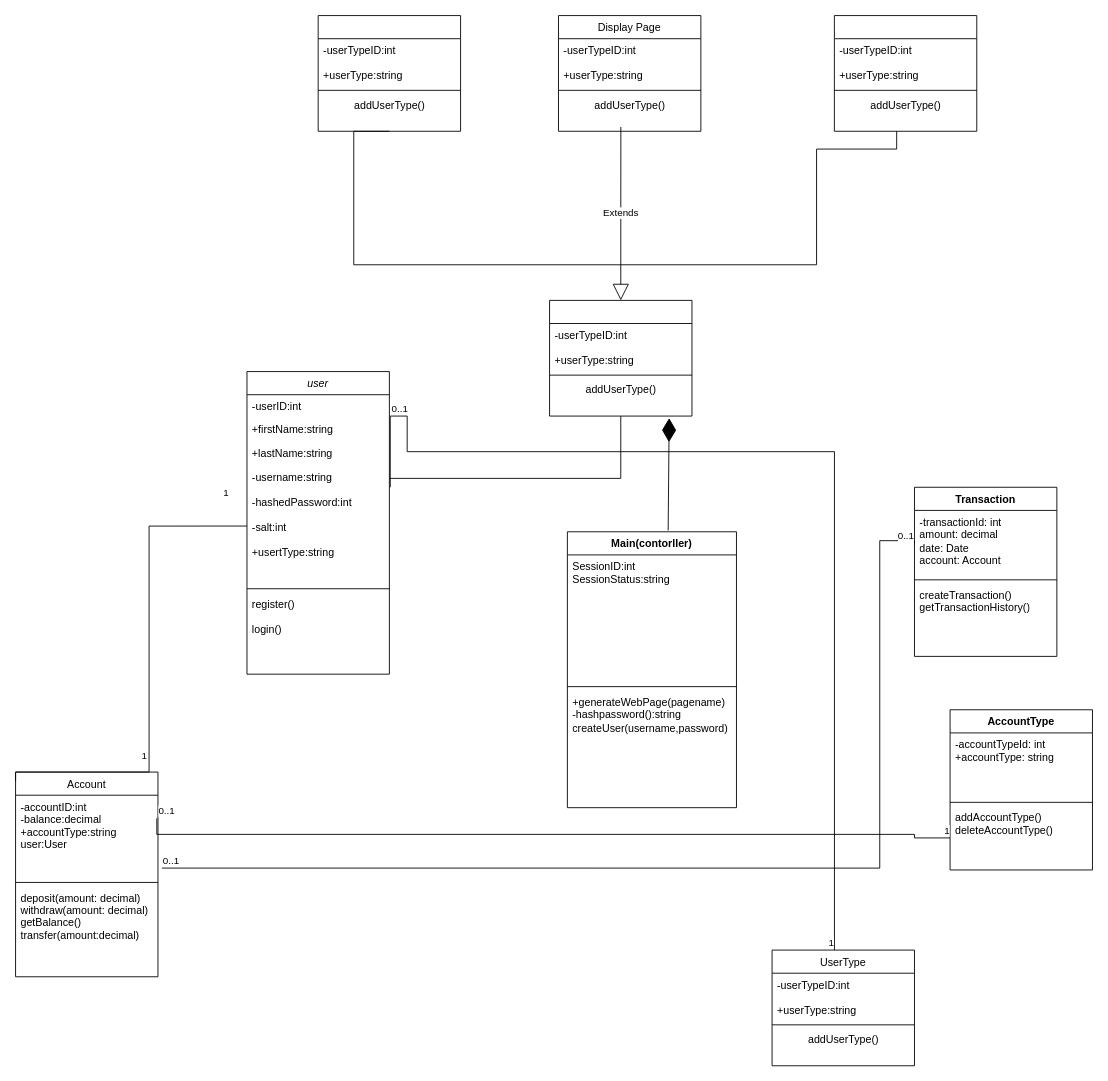
The diagram is 1108 pixels wide and 1081 high, and some of its shapes have lost their labels. Here are the shapes that lost their labels. From the top down, the box of each, then its label:
(317, 15, 461, 131): RegisterPage
(833, 15, 977, 131): ResultsPage
(549, 299, 692, 416): WebPage
